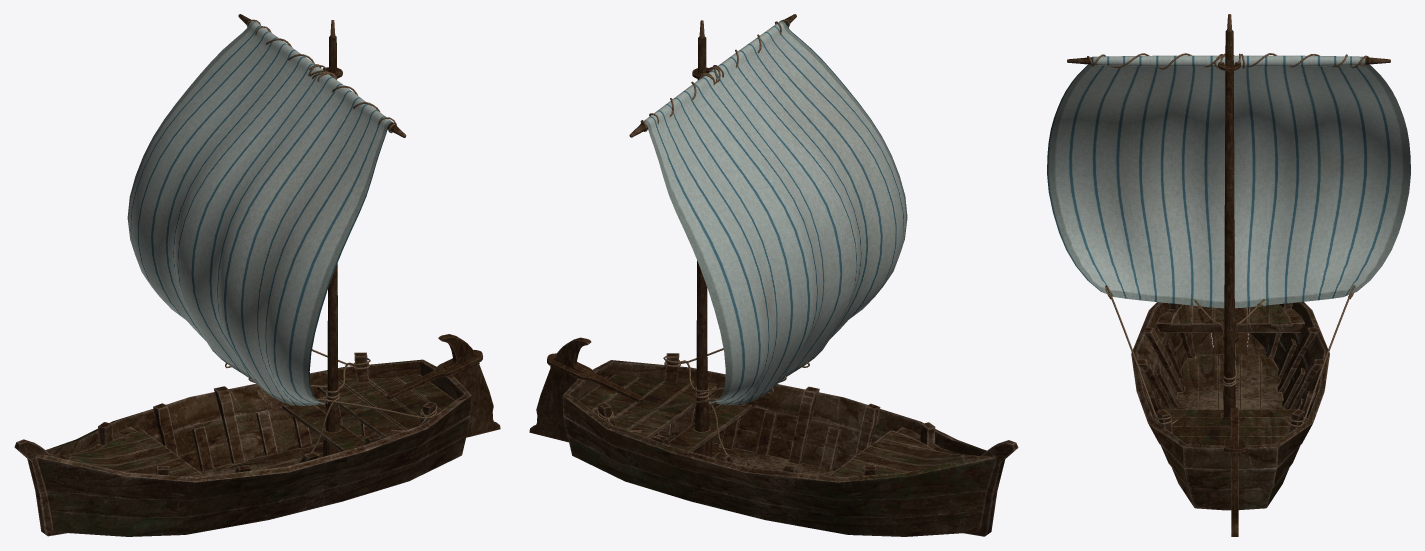
Rendered from harbour-fishing-boat.glb.
3 views of the same model, side by side, from view 1: azimuth 30°, elevation 25°; view 2: azimuth 150°, elevation 25°; view 3: azimuth 270°, elevation 25° (orthographic).
Parts seen in each view (by area): view 1: Harbour Fishing Boat - SANKETPUSHKAR CC BY; view 2: Harbour Fishing Boat - SANKETPUSHKAR CC BY; view 3: Harbour Fishing Boat - SANKETPUSHKAR CC BY.
Part boxes in pixels (x1,y1,x2,y2): Harbour Fishing Boat - SANKETPUSHKAR CC BY: [14, 14, 500, 536]; Harbour Fishing Boat - SANKETPUSHKAR CC BY: [529, 14, 1018, 536]; Harbour Fishing Boat - SANKETPUSHKAR CC BY: [1047, 14, 1410, 536].
Bounding box in the file's own units: 6.75 × 6.08 × 4.48.
6 materials, 6 textured.
